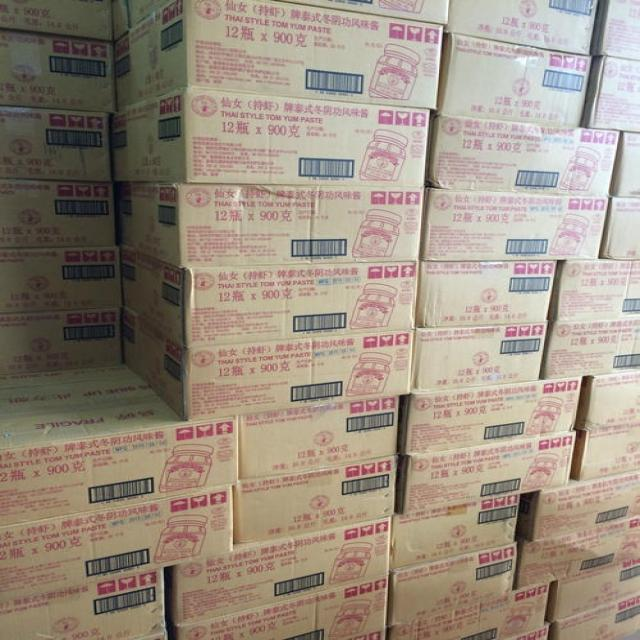box: (113, 0, 443, 109), (0, 377, 239, 526), (122, 305, 413, 418), (110, 86, 429, 187), (119, 245, 419, 344), (0, 484, 233, 598), (114, 181, 421, 267), (173, 517, 390, 628), (429, 115, 621, 196), (396, 432, 576, 513), (439, 33, 594, 126), (233, 456, 397, 543), (399, 378, 582, 455), (238, 395, 401, 481), (174, 575, 388, 639), (421, 190, 611, 260), (0, 567, 166, 640), (388, 543, 516, 627), (411, 321, 548, 392), (392, 495, 520, 570), (415, 261, 558, 328), (389, 582, 550, 640), (0, 30, 114, 110), (516, 470, 640, 541), (0, 245, 122, 315), (0, 308, 122, 376), (0, 106, 111, 180), (0, 178, 118, 247), (448, 0, 598, 54), (513, 520, 628, 590), (541, 318, 640, 381), (550, 260, 640, 320), (547, 563, 621, 623), (582, 57, 640, 132), (572, 423, 640, 482), (576, 371, 640, 430), (602, 196, 640, 260)
